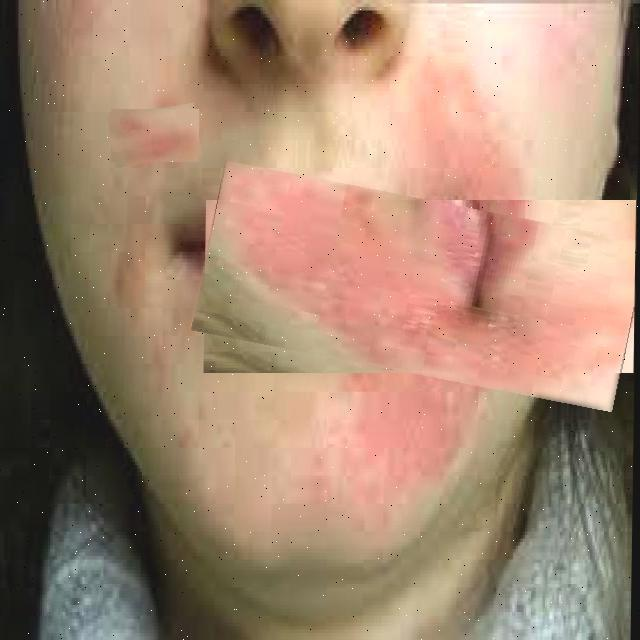redness: (220, 174, 635, 392), (109, 112, 201, 161)
